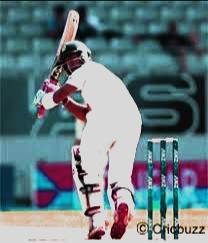batsman: (30, 3, 151, 242)
